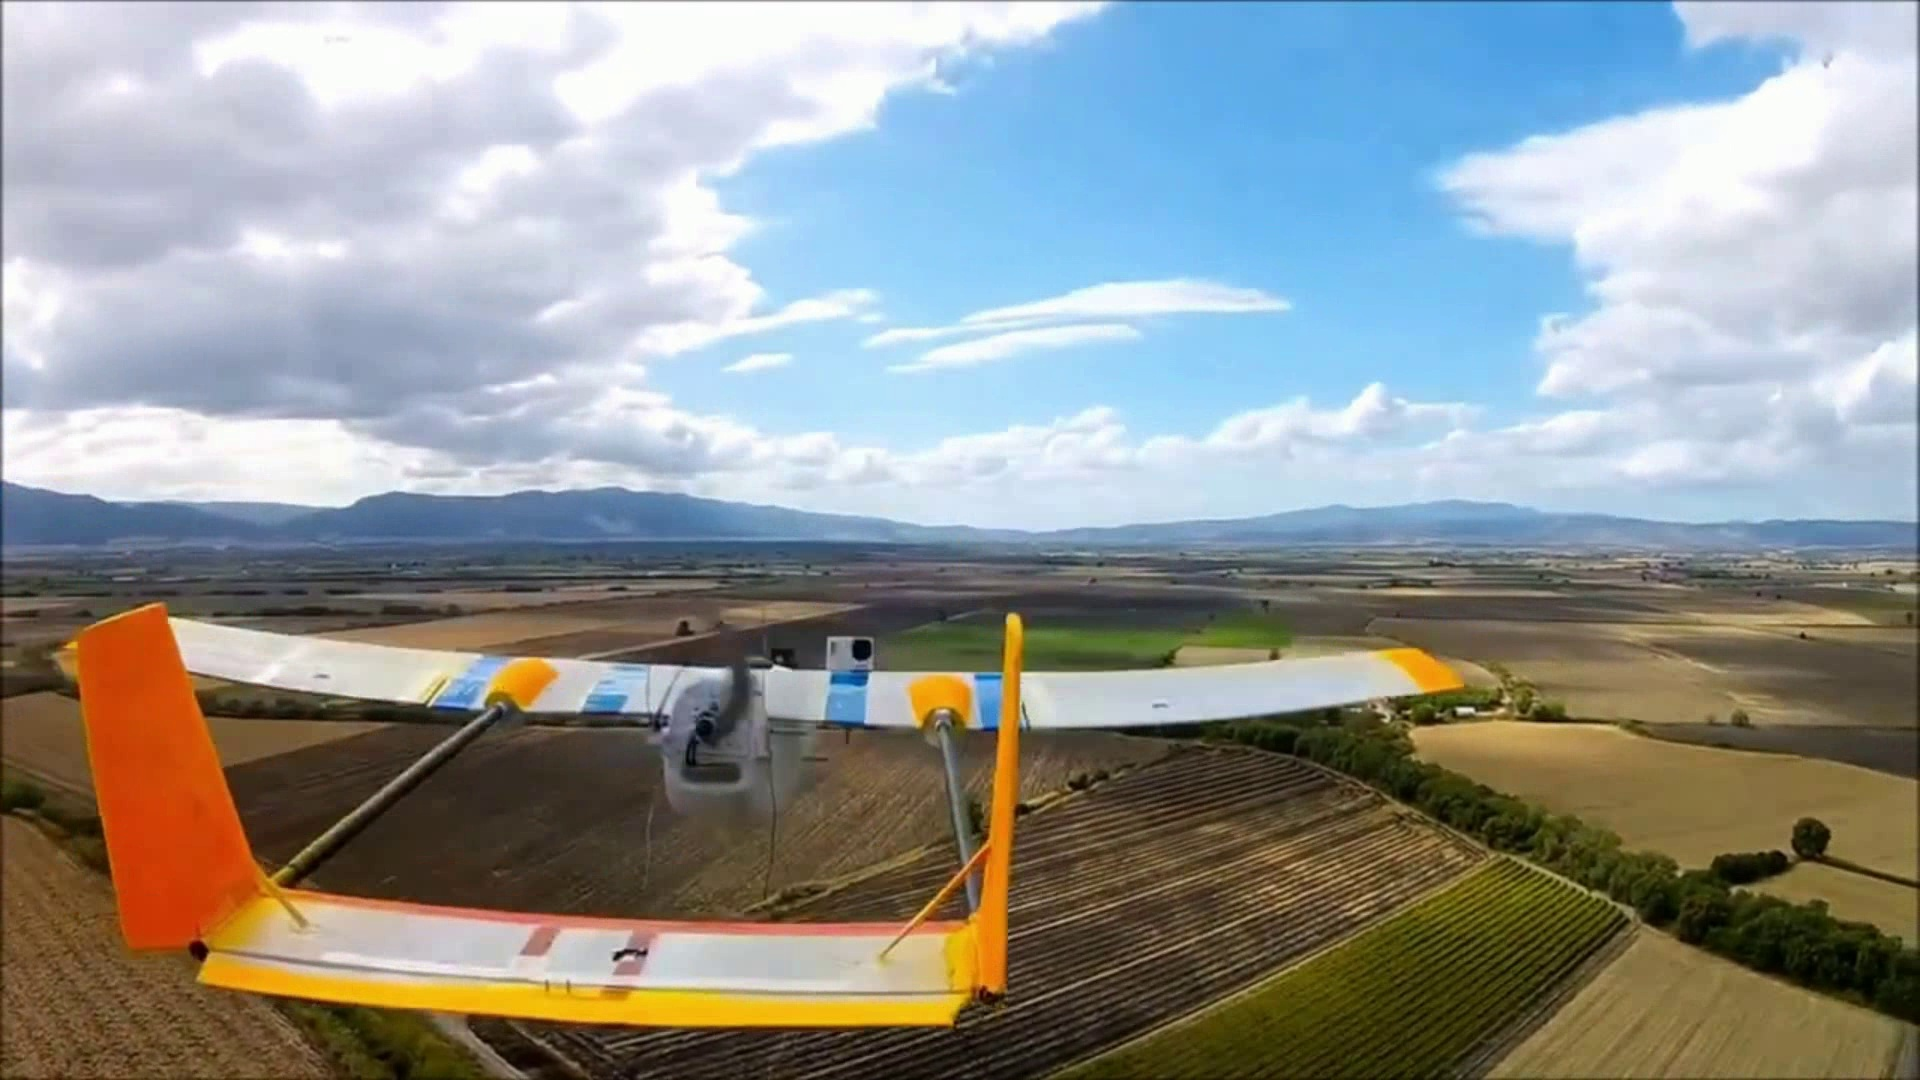airplane: (57, 601, 1514, 1027)
